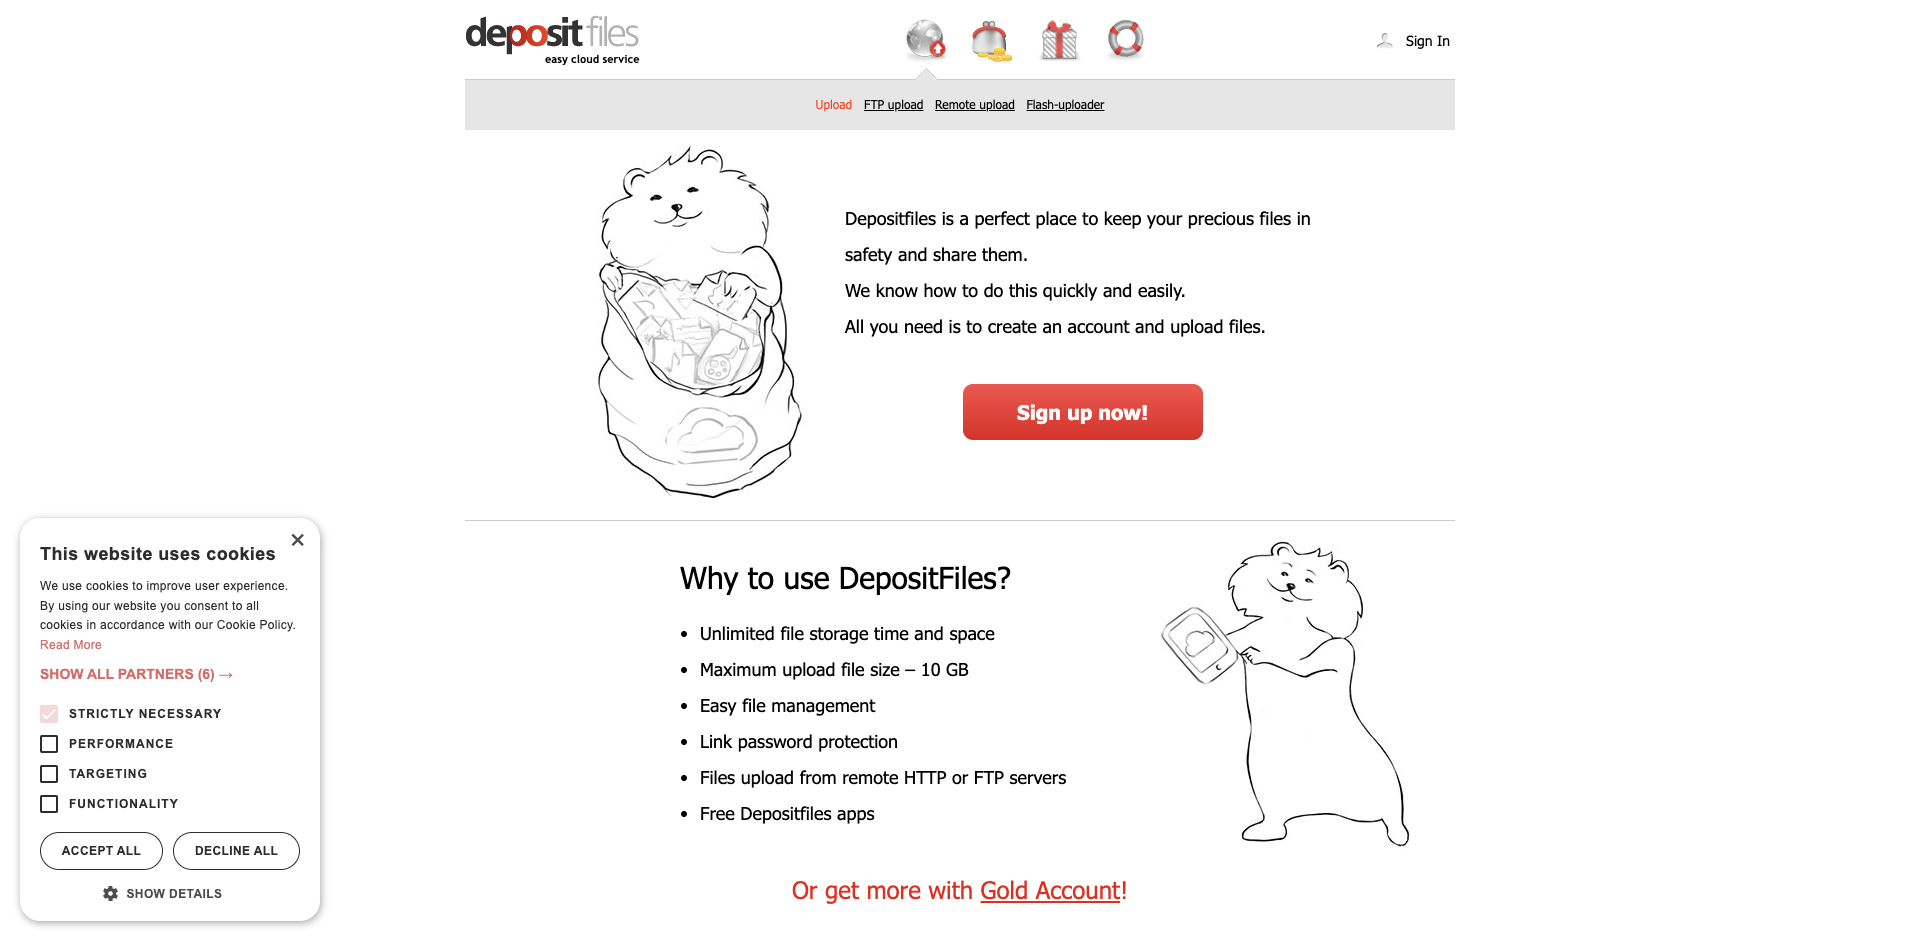button: (962, 384, 1202, 440), (173, 832, 300, 870), (40, 832, 163, 870), (40, 883, 300, 901), (40, 667, 300, 682), (290, 533, 305, 548)
checkbox: (29, 693, 69, 734), (29, 724, 69, 765), (29, 754, 69, 794), (29, 784, 69, 825)
label: (69, 693, 222, 734), (69, 784, 179, 825), (69, 724, 174, 765), (69, 754, 148, 794)
link: (465, 13, 665, 58), (981, 875, 1120, 904), (969, 17, 1018, 65), (1102, 17, 1151, 65), (1373, 26, 1455, 54), (902, 17, 950, 65), (1036, 17, 1084, 65), (931, 97, 1019, 111), (1022, 97, 1108, 111), (860, 97, 927, 111), (40, 638, 102, 652), (812, 97, 856, 111)
